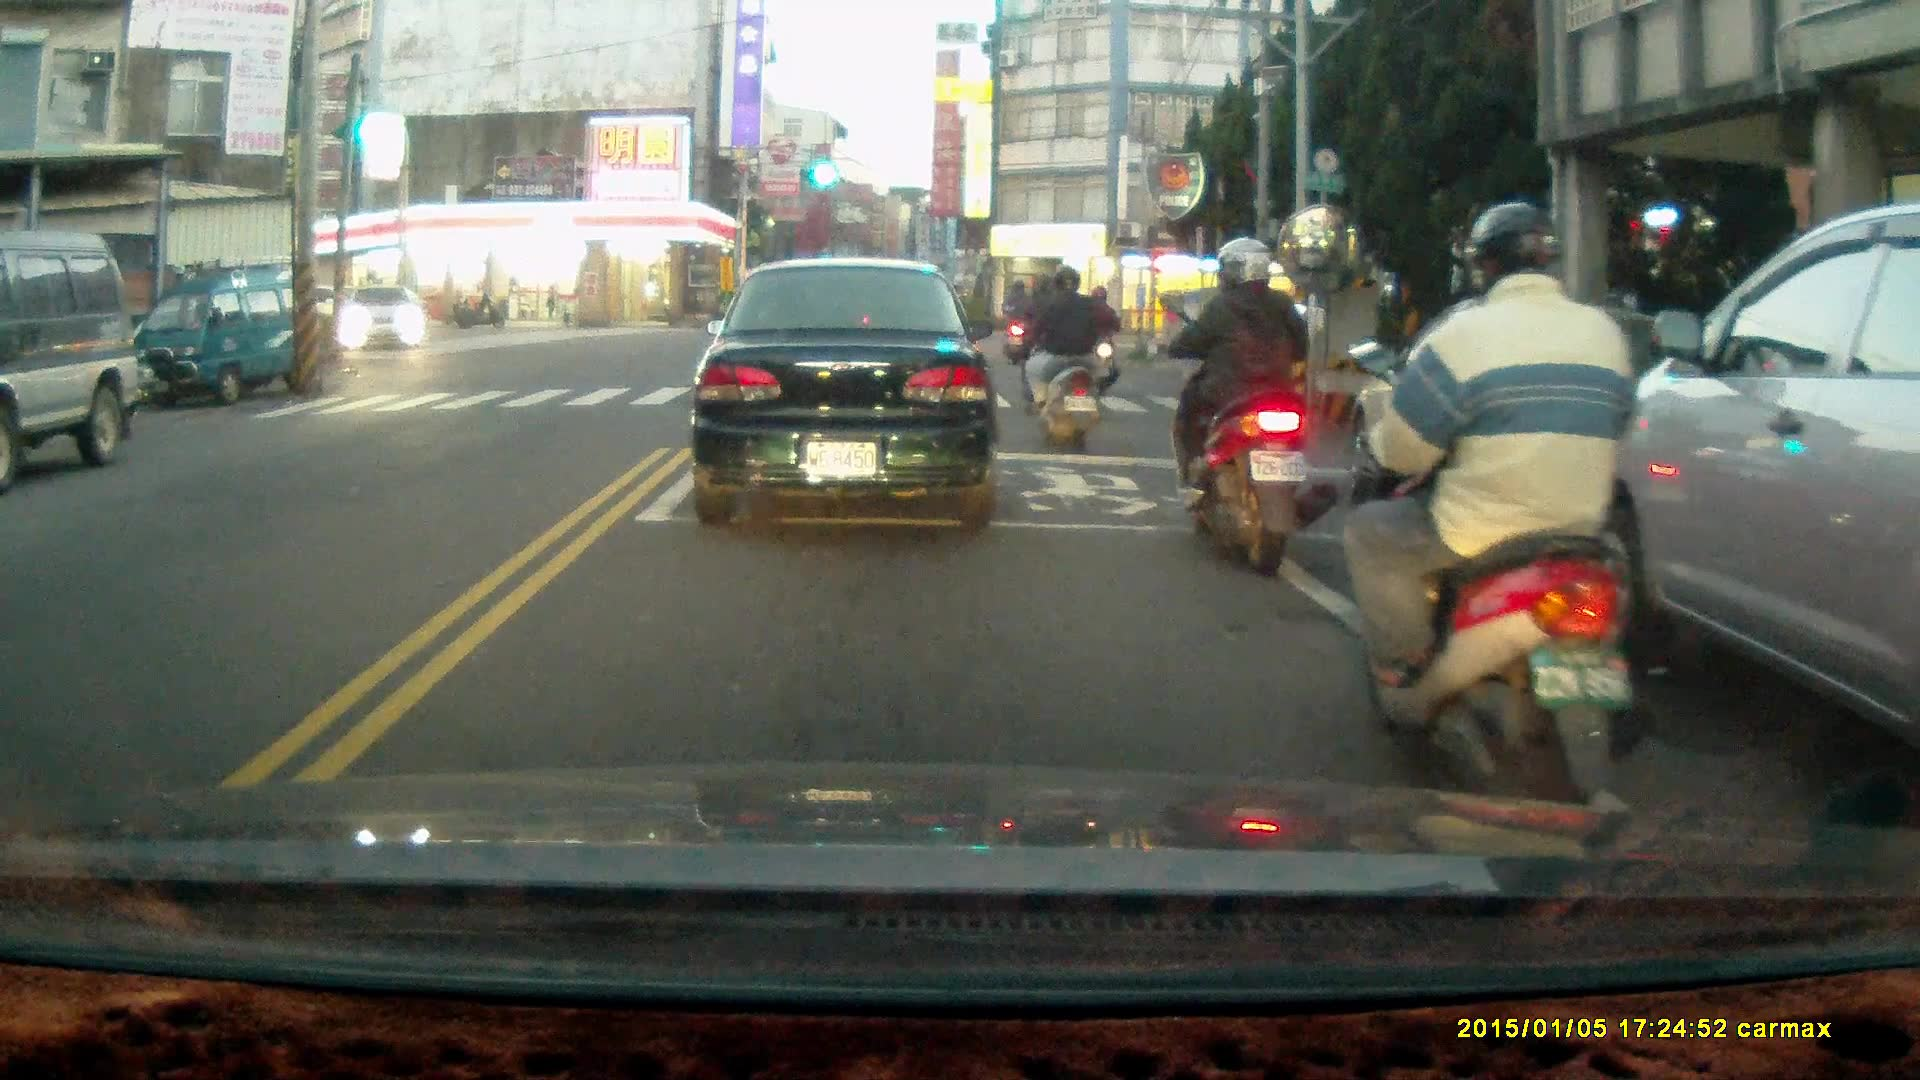rider: (1346, 201, 1667, 853), (1163, 234, 1339, 584), (1020, 259, 1102, 453), (1079, 282, 1119, 400), (997, 276, 1036, 368)
vehicle: (1574, 202, 1920, 834), (689, 254, 1011, 532), (1, 234, 136, 479), (145, 263, 299, 406), (338, 287, 427, 357)
